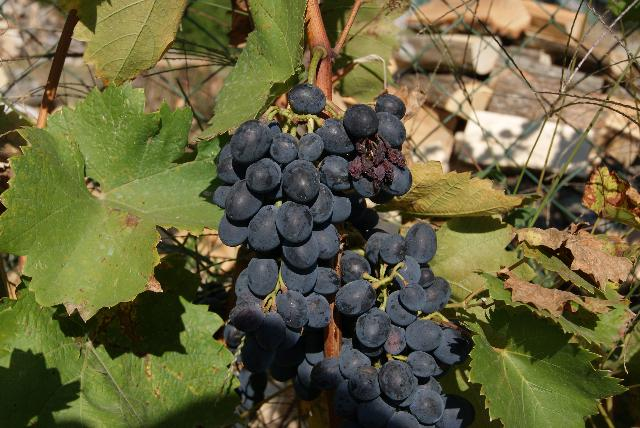grapes: (214, 82, 410, 370), (310, 222, 475, 428), (316, 94, 411, 201)
